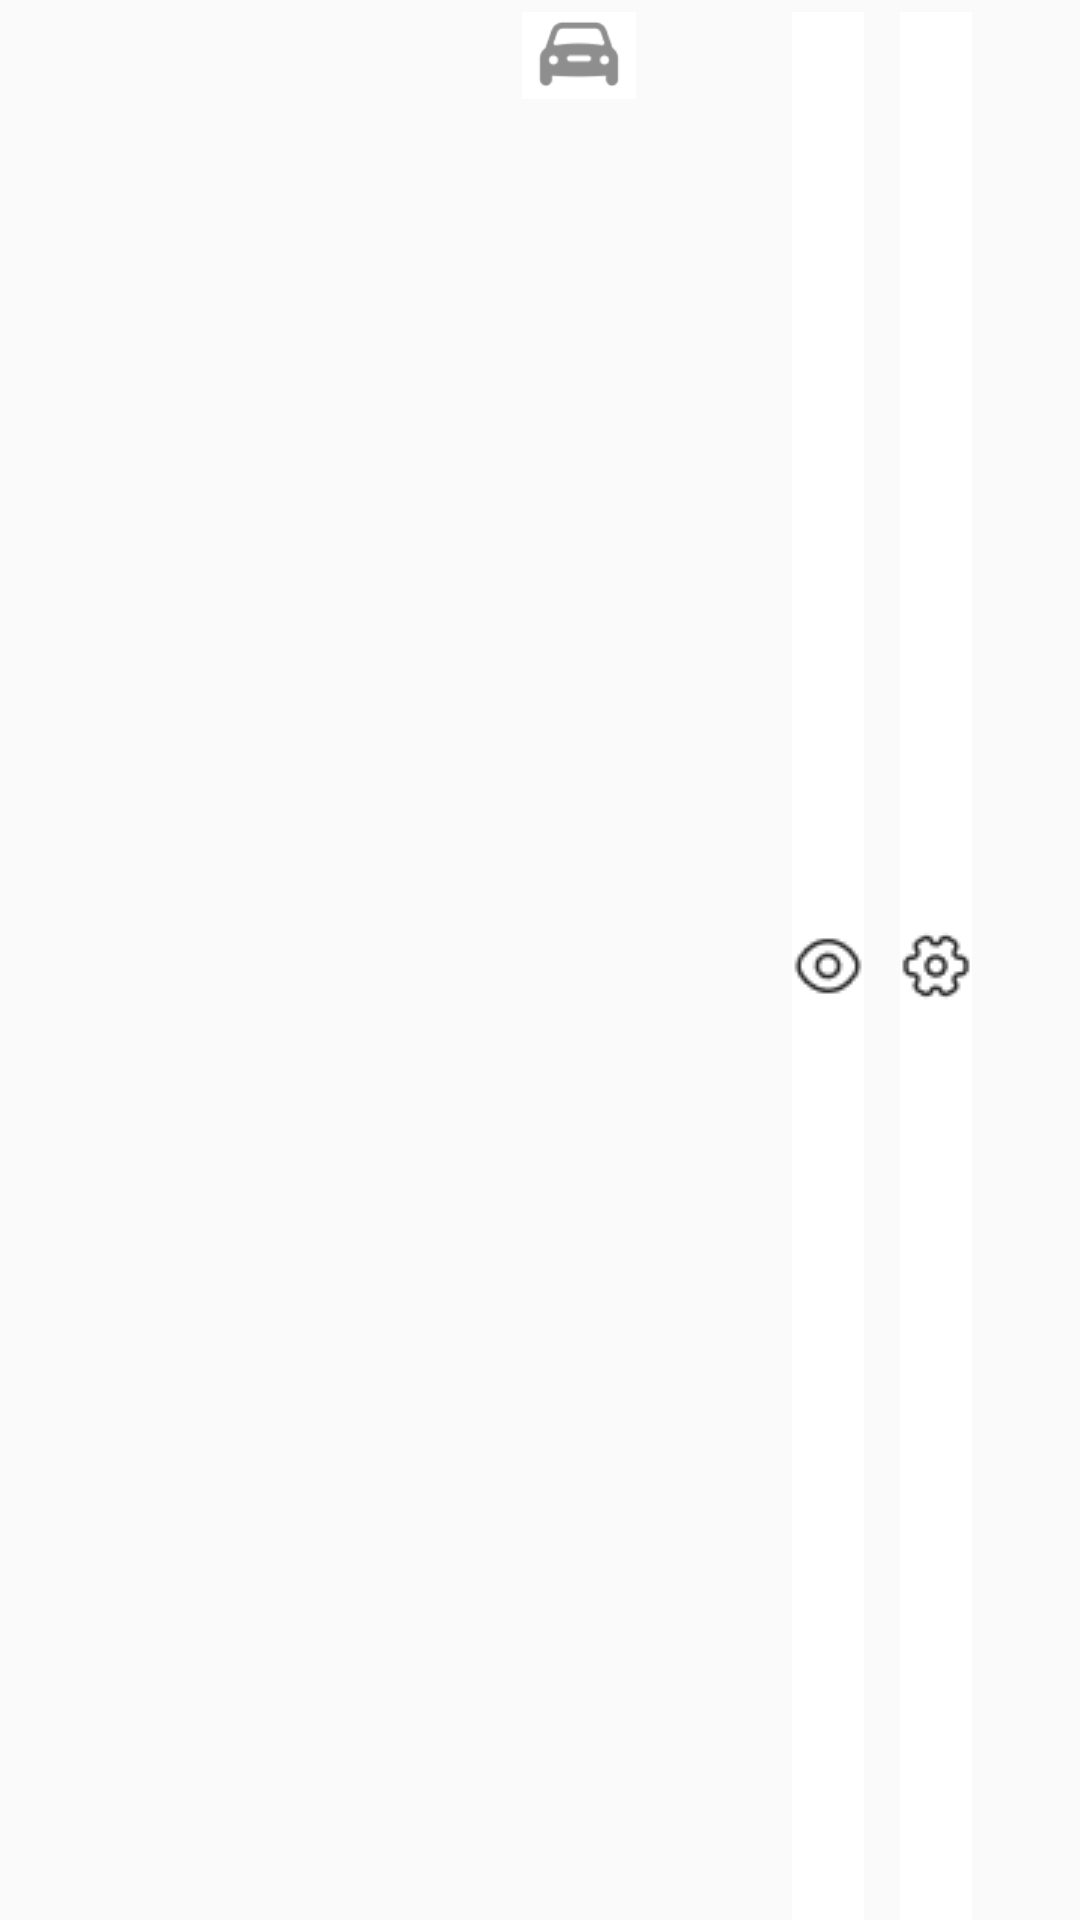

Named icons in this screenshot (1080px×1920px) and their centers, (x,y):
eye: (828,966)
setting: (936,966)
